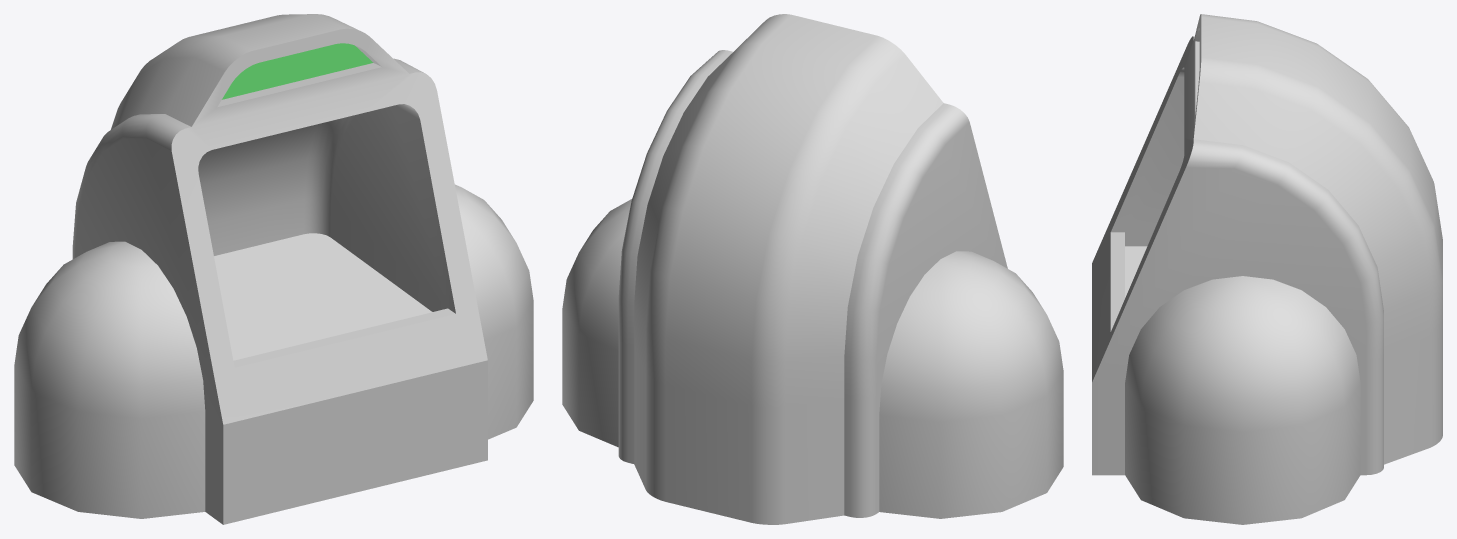
Rendered from DeliveryChute.fbx.
3 renders of one model, left to right at view 1: azimuth 30°, elevation 25°; view 2: azimuth 150°, elevation 25°; view 3: azimuth 270°, elevation 25°, orthographic. The views are drawn at different scales.
Parts seen in each view (by area): view 1: DeliveryChute, DeliveryLift; view 2: DeliveryChute; view 3: DeliveryChute, DeliveryLift.
Boxes of the visible parts, left/top/right/bottom form: DeliveryChute: left=14, top=14, right=533, bottom=524; DeliveryLift: left=214, top=233, right=432, bottom=360; DeliveryChute: left=562, top=14, right=1063, bottom=524; DeliveryChute: left=1092, top=14, right=1442, bottom=524; DeliveryLift: left=1125, top=246, right=1147, bottom=297.
Size of the model in its own units: 440 by 355 by 298.
